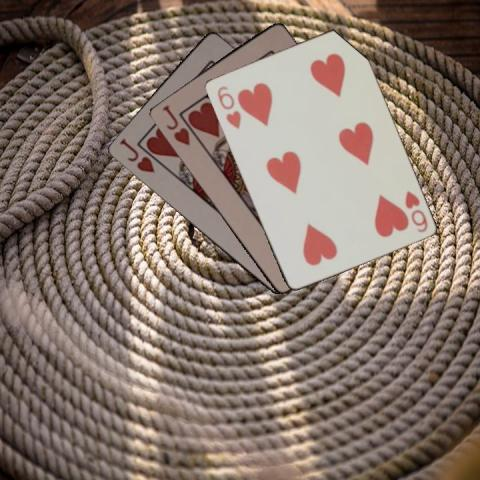6h: (214, 83, 242, 130), (401, 187, 429, 234)
Jh: (116, 135, 156, 175), (158, 102, 191, 148)
